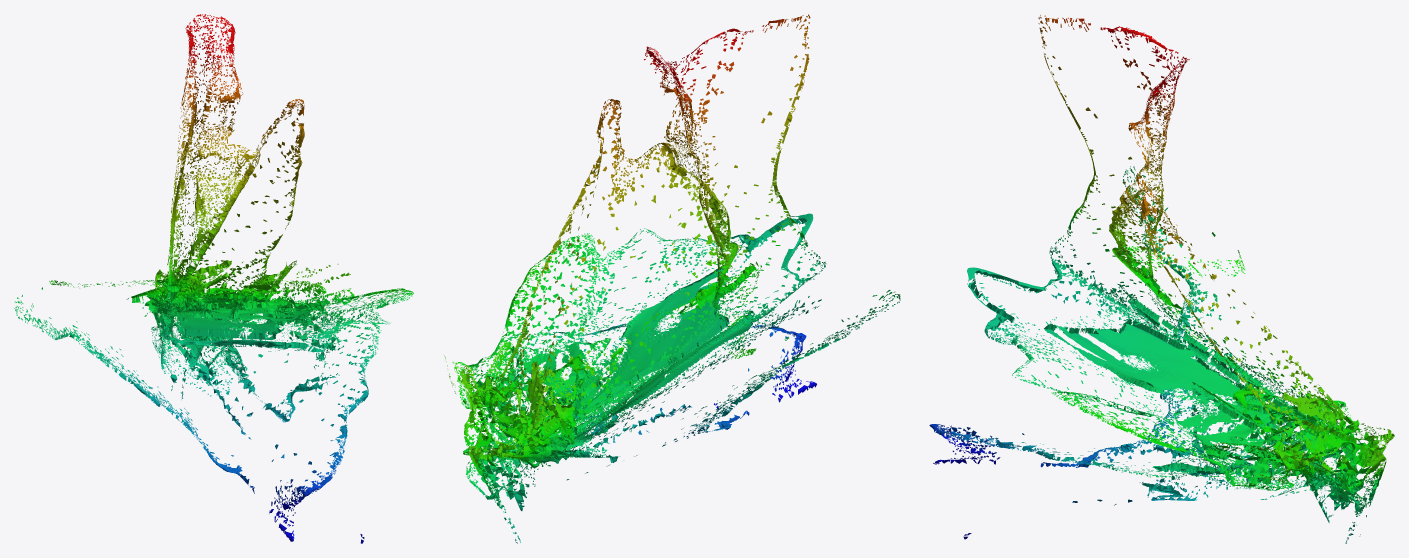
3 renders of one model, left to right at view 1: azimuth 30°, elevation 25°; view 2: azimuth 150°, elevation 25°; view 3: azimuth 270°, elevation 25°, orthographic. The views are drawn at different scales.
Visible parts, largest first — view 1: geometry_0; view 2: geometry_0; view 3: geometry_0.
Part boxes in pixels (x1,y1,x2,y2): geometry_0: (14,14,413,543); geometry_0: (444,14,900,543); geometry_0: (929,15,1394,543).
Bounding box in the file's own units: 1.59 × 1.77 × 1.6.
